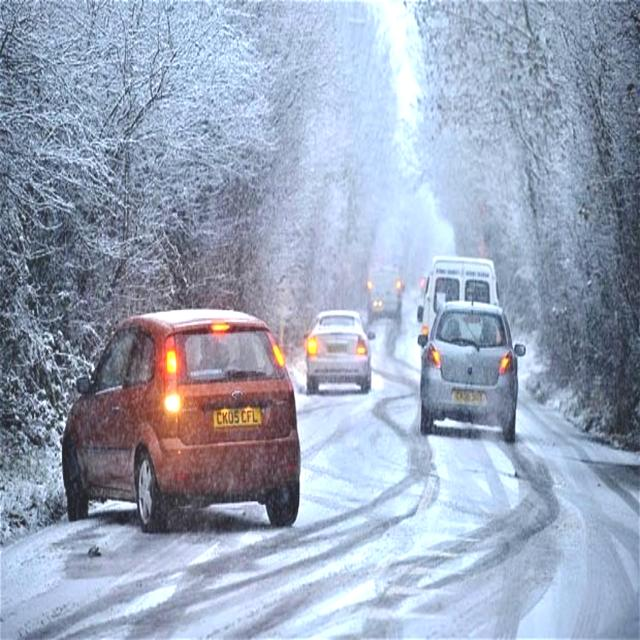Car: (47, 299, 305, 532), (408, 305, 531, 440), (300, 282, 374, 388)
Van: (418, 232, 501, 328), (359, 244, 405, 320)
